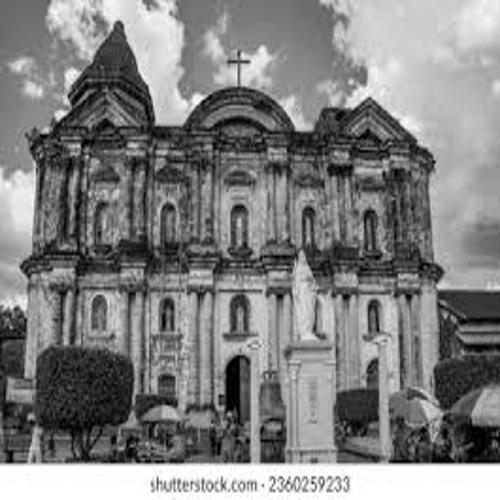Taal Basilica Church: (22, 17, 450, 425)
